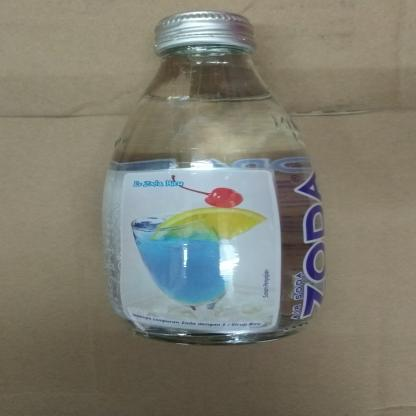glass: (105, 5, 332, 350)
